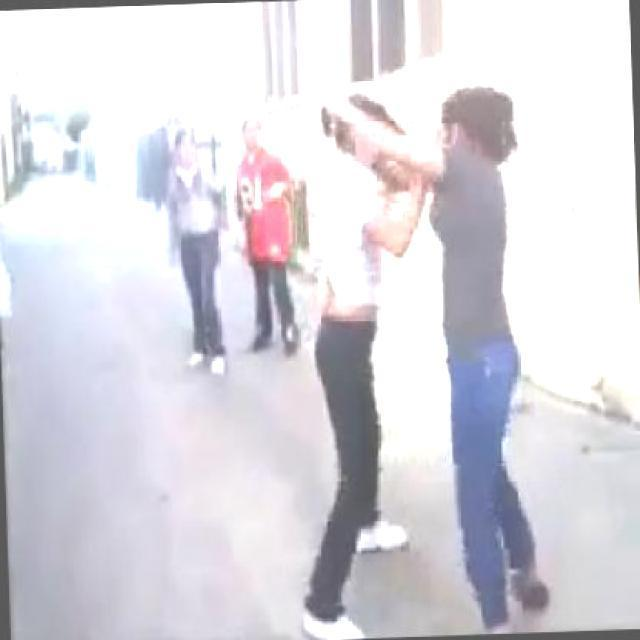fight: (302, 70, 535, 470)
non-fight: (233, 97, 302, 296), (169, 124, 234, 327)
